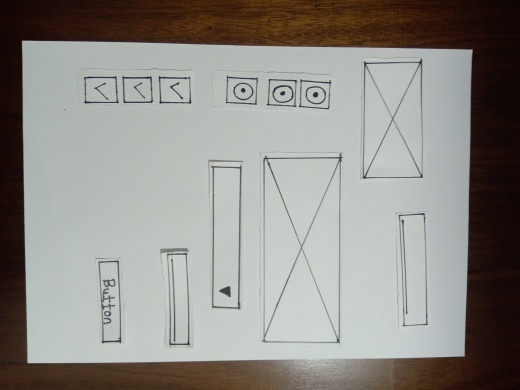button: (97, 261, 122, 345)
checkbox: (122, 74, 152, 107), (84, 76, 117, 102), (158, 78, 191, 104)
dropdown: (210, 166, 241, 312)
img: (265, 158, 338, 344), (364, 65, 422, 180)
radio: (225, 78, 258, 104), (301, 81, 331, 108), (268, 80, 295, 106)
text: (397, 216, 427, 323), (164, 250, 190, 345)
